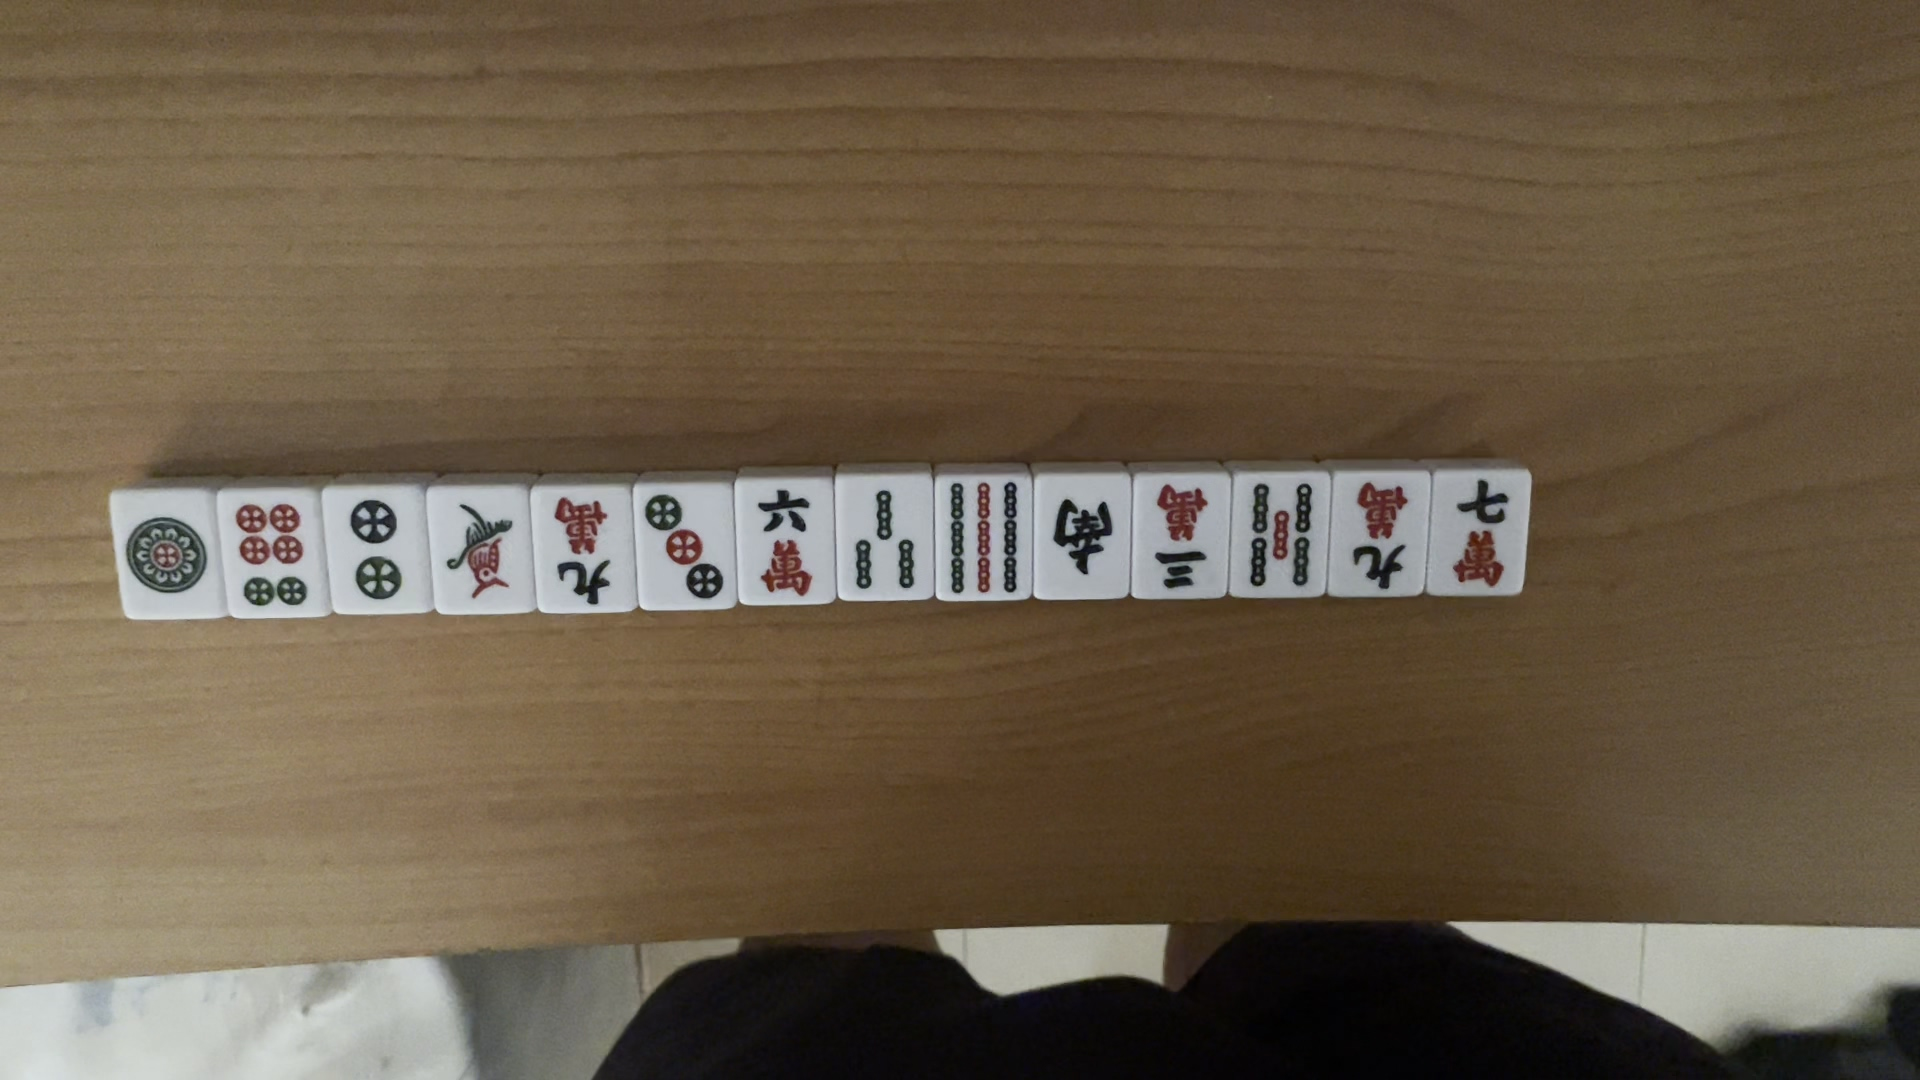b-1: (436, 498, 518, 607)
b-3: (848, 483, 924, 596)
b-5: (1240, 477, 1317, 593)
b-9: (942, 479, 1026, 601)
c-3: (1139, 483, 1218, 596)
c-6: (746, 488, 819, 601)
c-7: (1447, 480, 1513, 593)
c-9: (1338, 477, 1418, 587)
d-1: (123, 512, 208, 599)
d-2: (339, 496, 407, 603)
d-3: (641, 495, 729, 608)
d-6: (223, 501, 318, 615)
honors-south: (1044, 485, 1116, 585)
